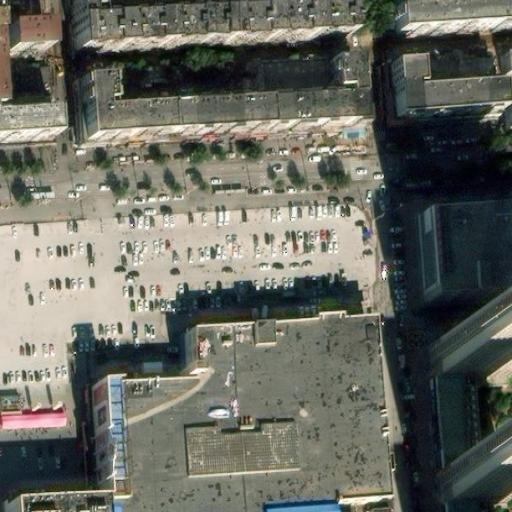building: (88, 301, 376, 512), (84, 82, 362, 163), (70, 3, 348, 51), (414, 199, 512, 288), (426, 336, 512, 380), (394, 15, 512, 45), (253, 57, 329, 94), (417, 88, 505, 119), (430, 466, 494, 503), (5, 62, 52, 101), (0, 408, 67, 431), (391, 66, 418, 121), (0, 119, 49, 149), (6, 16, 48, 47), (503, 46, 512, 70)
